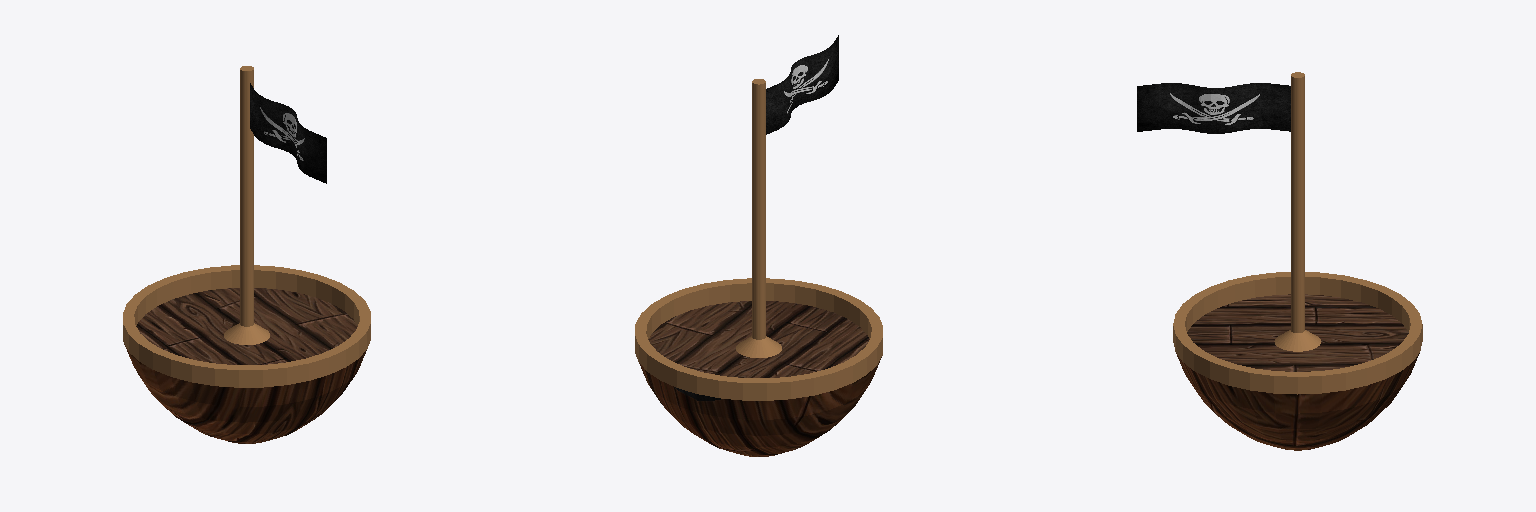
3 renders of one model, left to right at view 1: azimuth 30°, elevation 25°; view 2: azimuth 150°, elevation 25°; view 3: azimuth 270°, elevation 25°, orthographic.
Size of the model in its own units: 0.9535 by 1.53 by 1.09.
Materials: 1 (1 with a texture image).